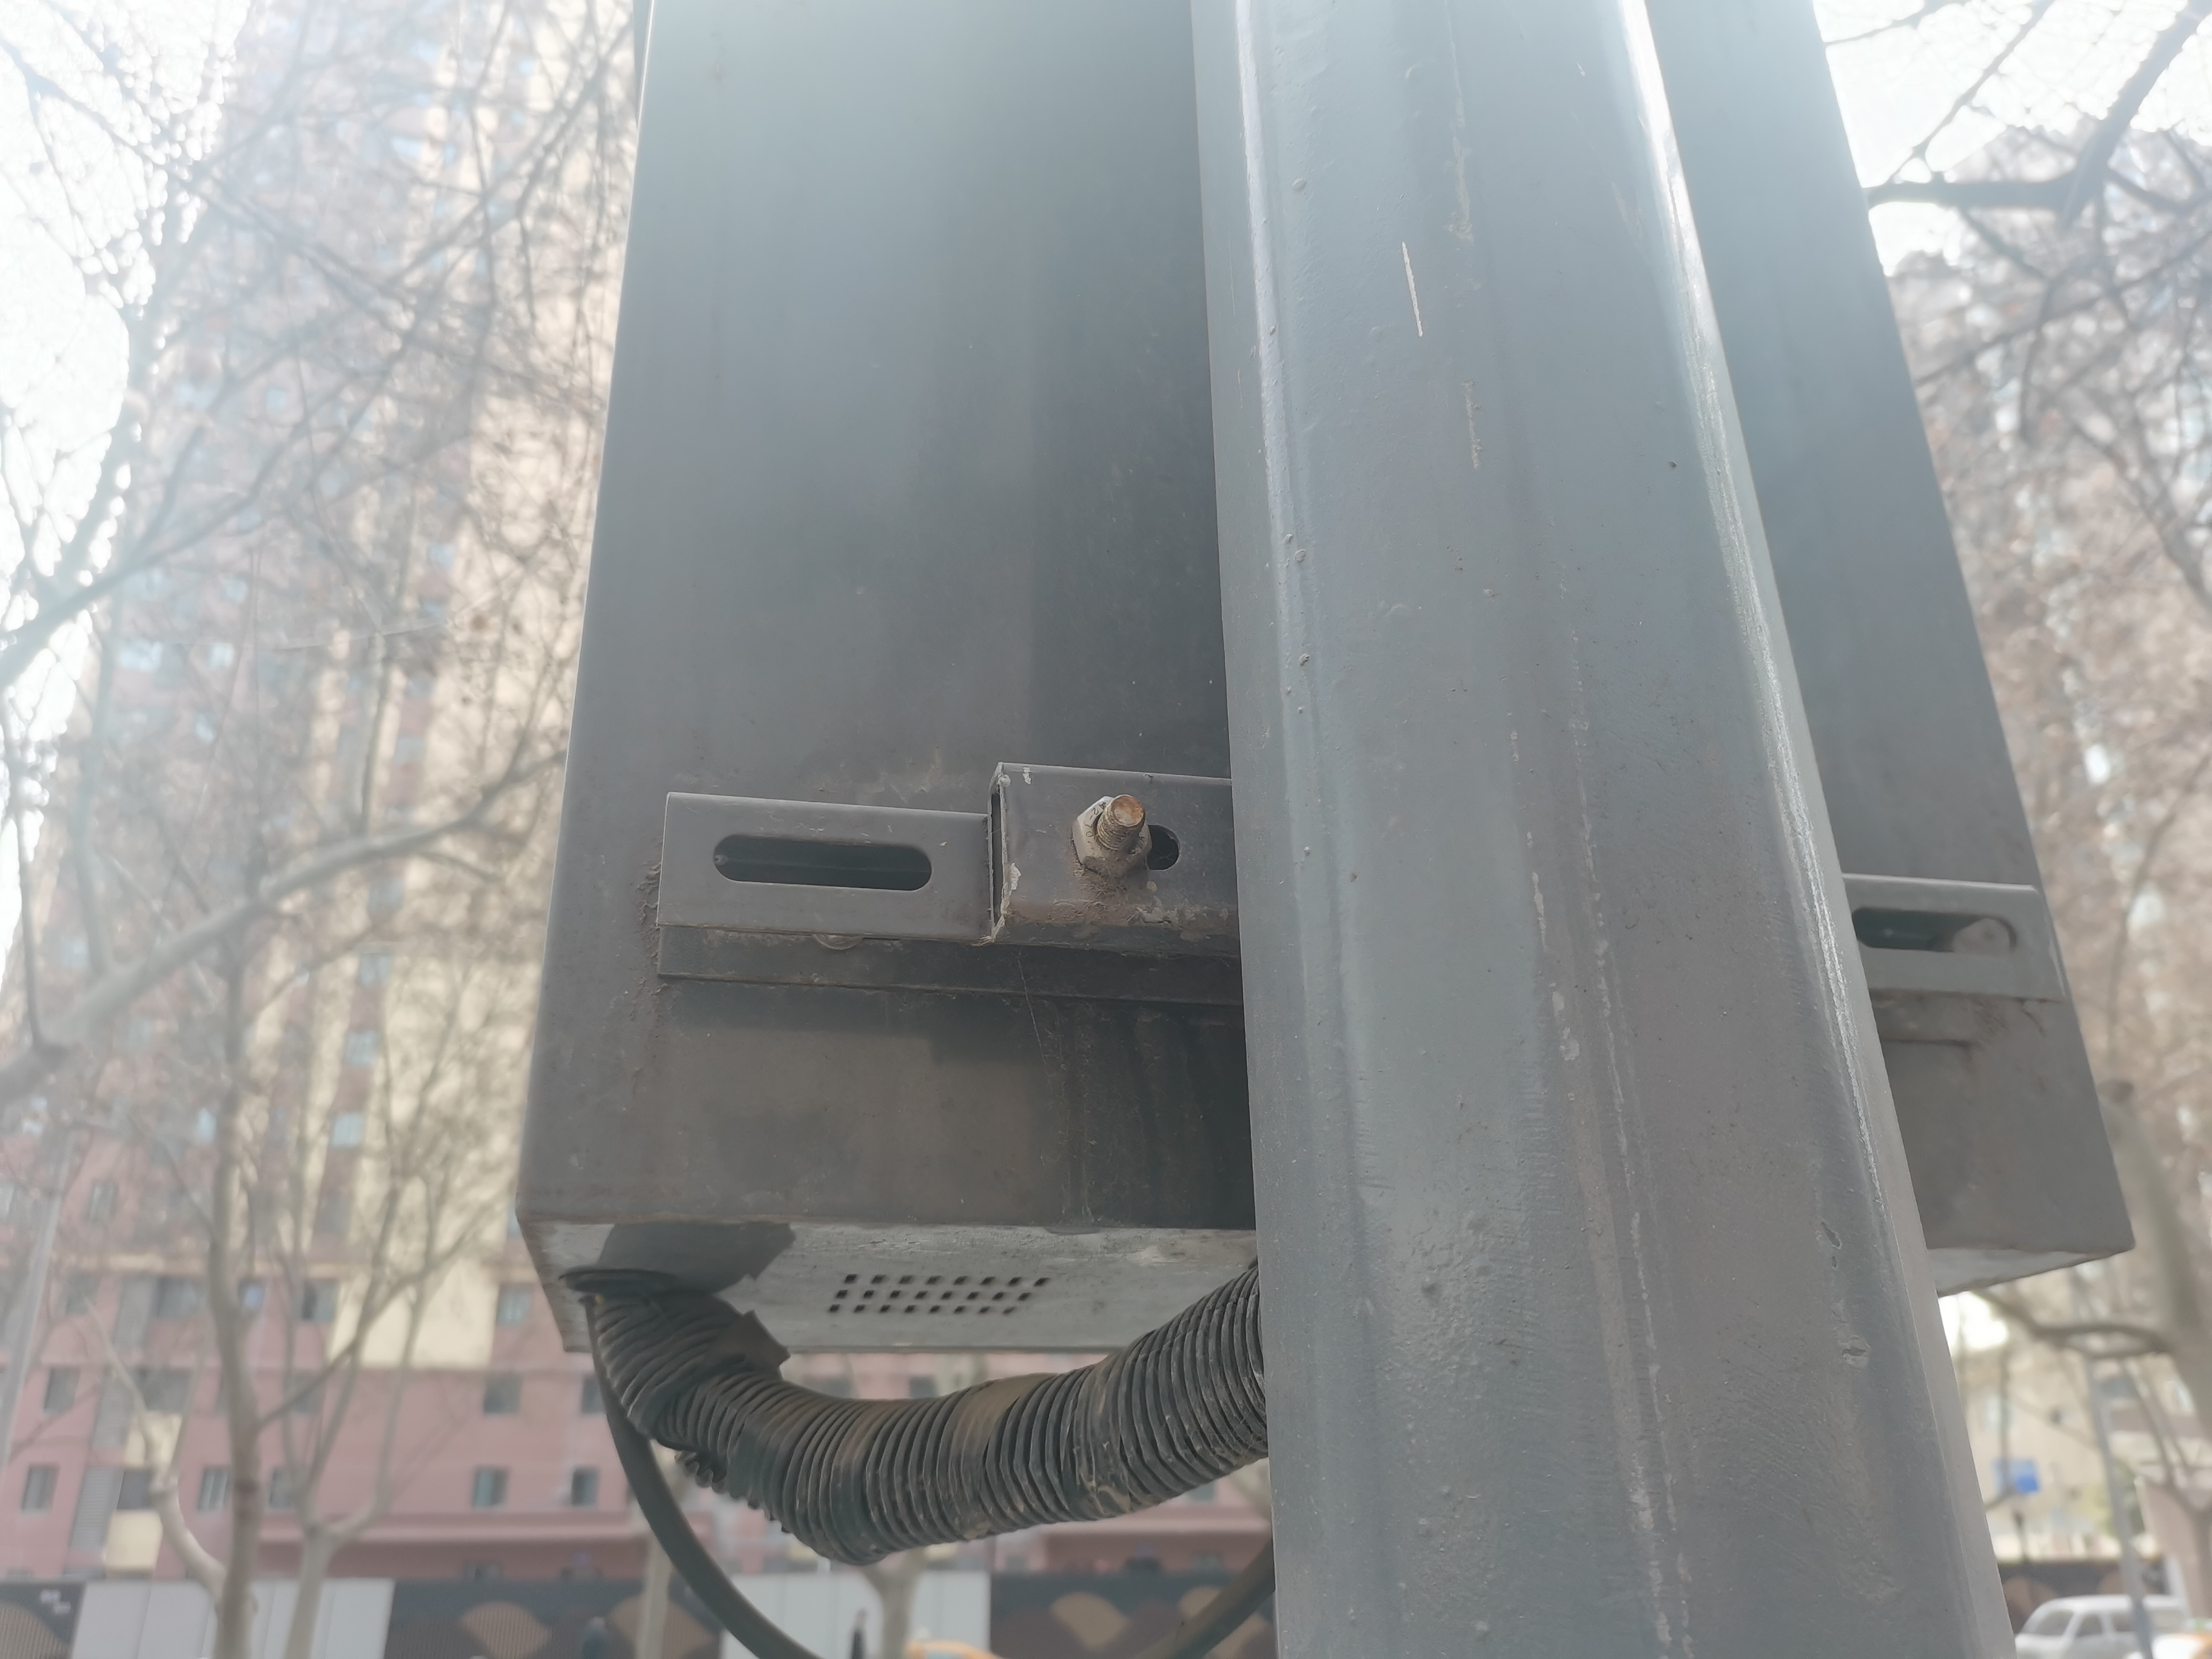bolt_b: (1068, 791, 1157, 884)
